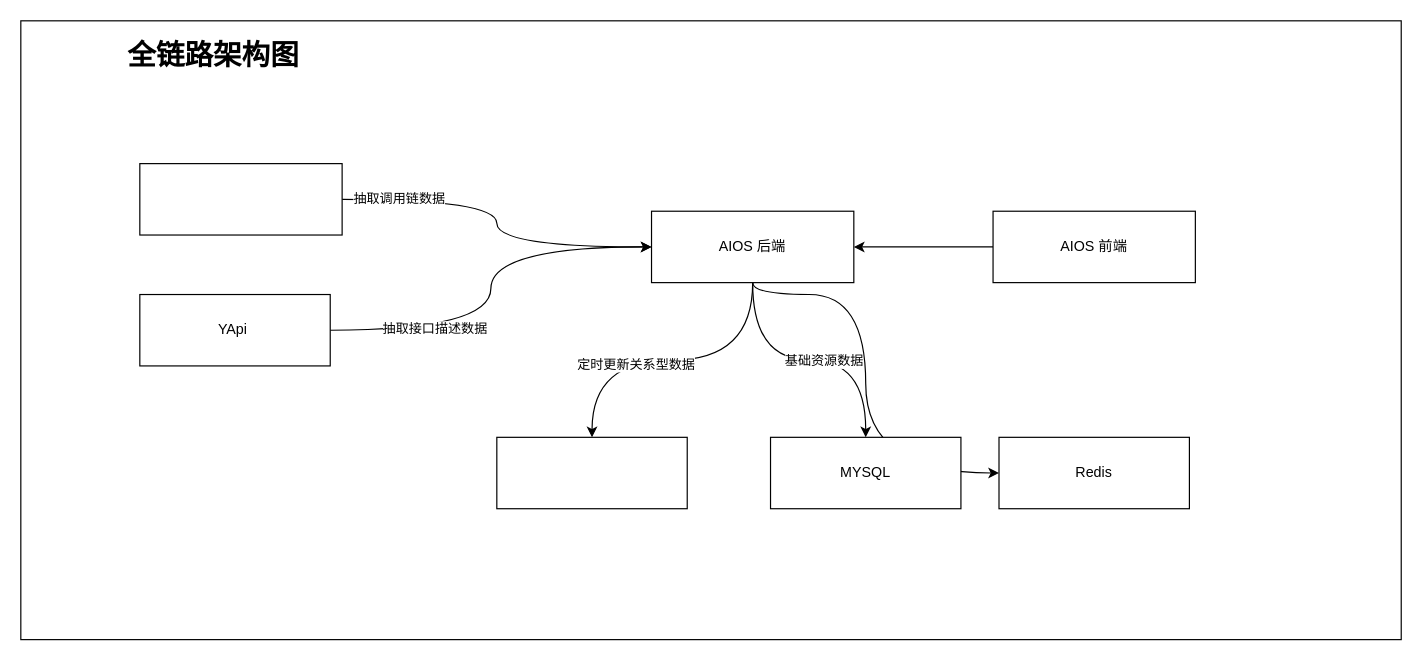
Image size: 1422x660. Some labels were removed from this diagram. Each missing label, with the box of its shape:
neo4j: (496, 436, 687, 509)
SKYWALKING OAP服务: (139, 162, 342, 235)
